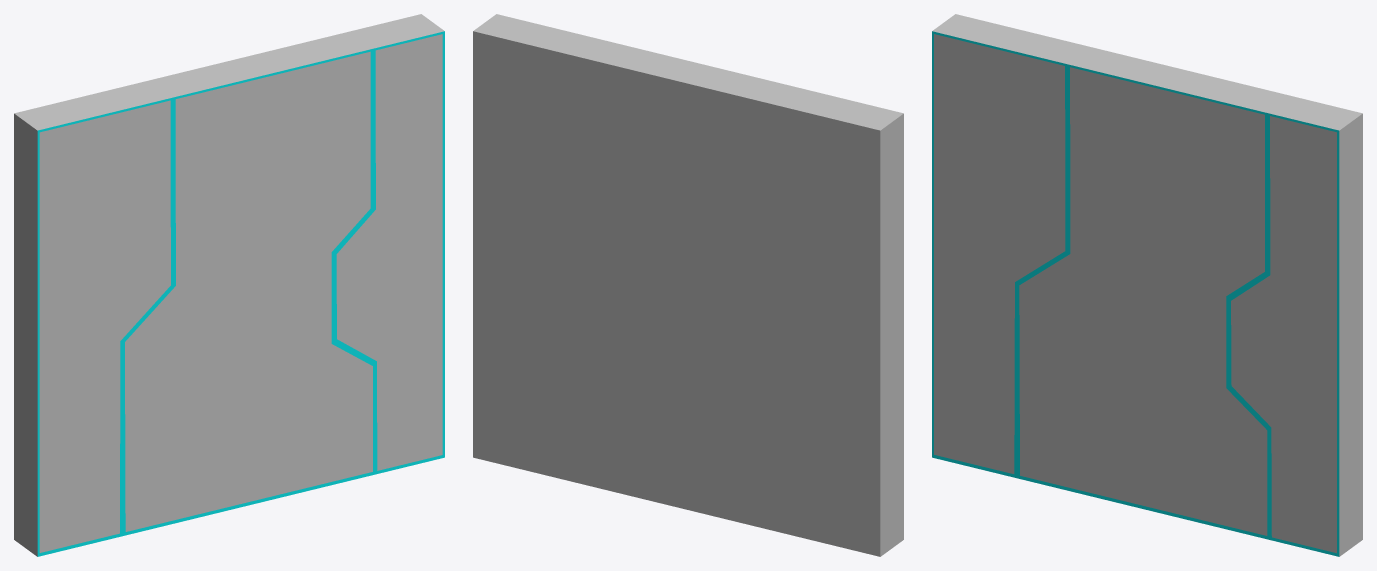
Rendered from Wall_005.fbx.
3 views of the same model, side by side, from view 1: azimuth 30°, elevation 25°; view 2: azimuth 150°, elevation 25°; view 3: azimuth 330°, elevation 25° (orthographic).
Visible parts, largest first — view 1: Wall_005; view 2: Wall_005; view 3: Wall_005.
Part boxes in pixels (x1,y1,x2,y2): Wall_005: (14,14,444,556); Wall_005: (473,14,903,556); Wall_005: (932,14,1362,556).
Bounding box in the file's own units: 300 × 300 × 30.
